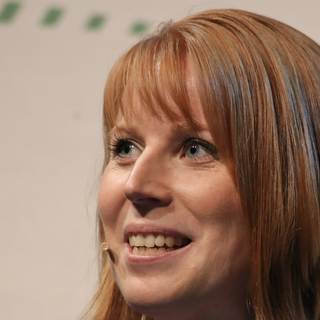eye: (174, 135, 220, 164), (106, 134, 145, 163)
